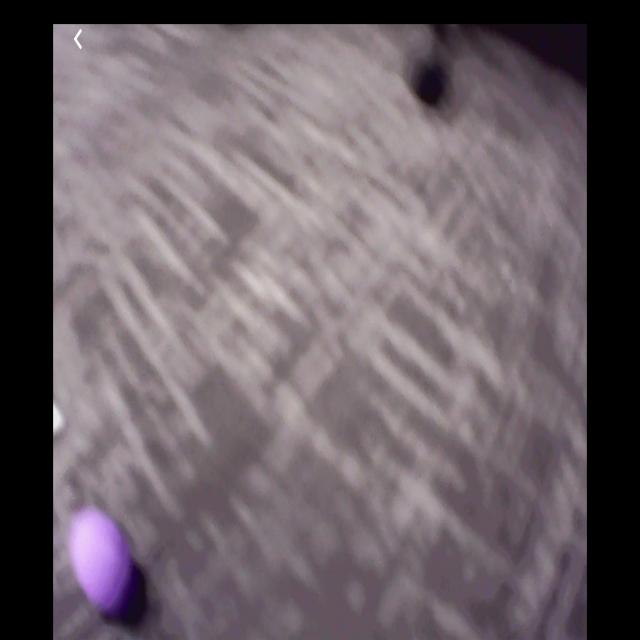ball: (74, 512, 136, 621)
